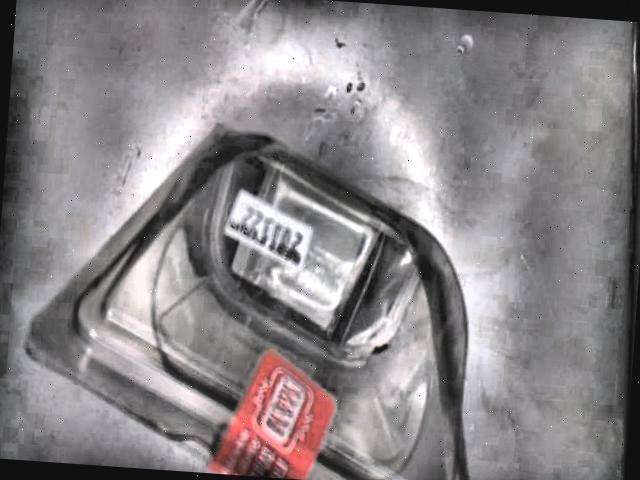Plastic: (23, 123, 466, 480)
